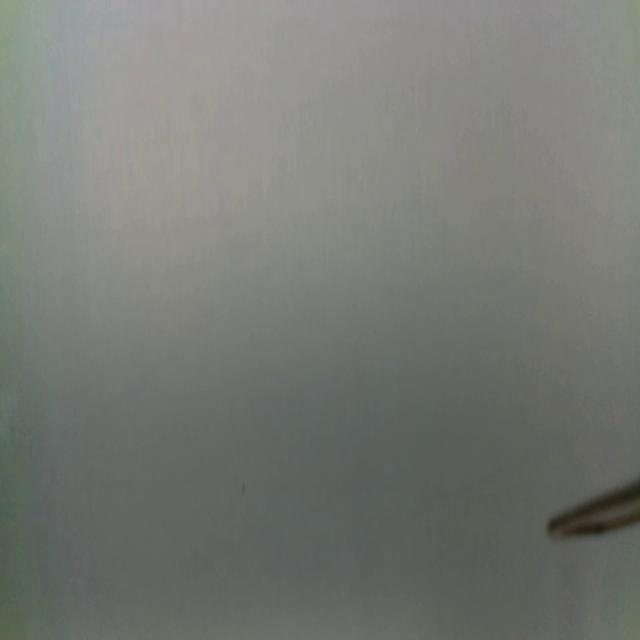hole: (240, 481, 246, 498)
